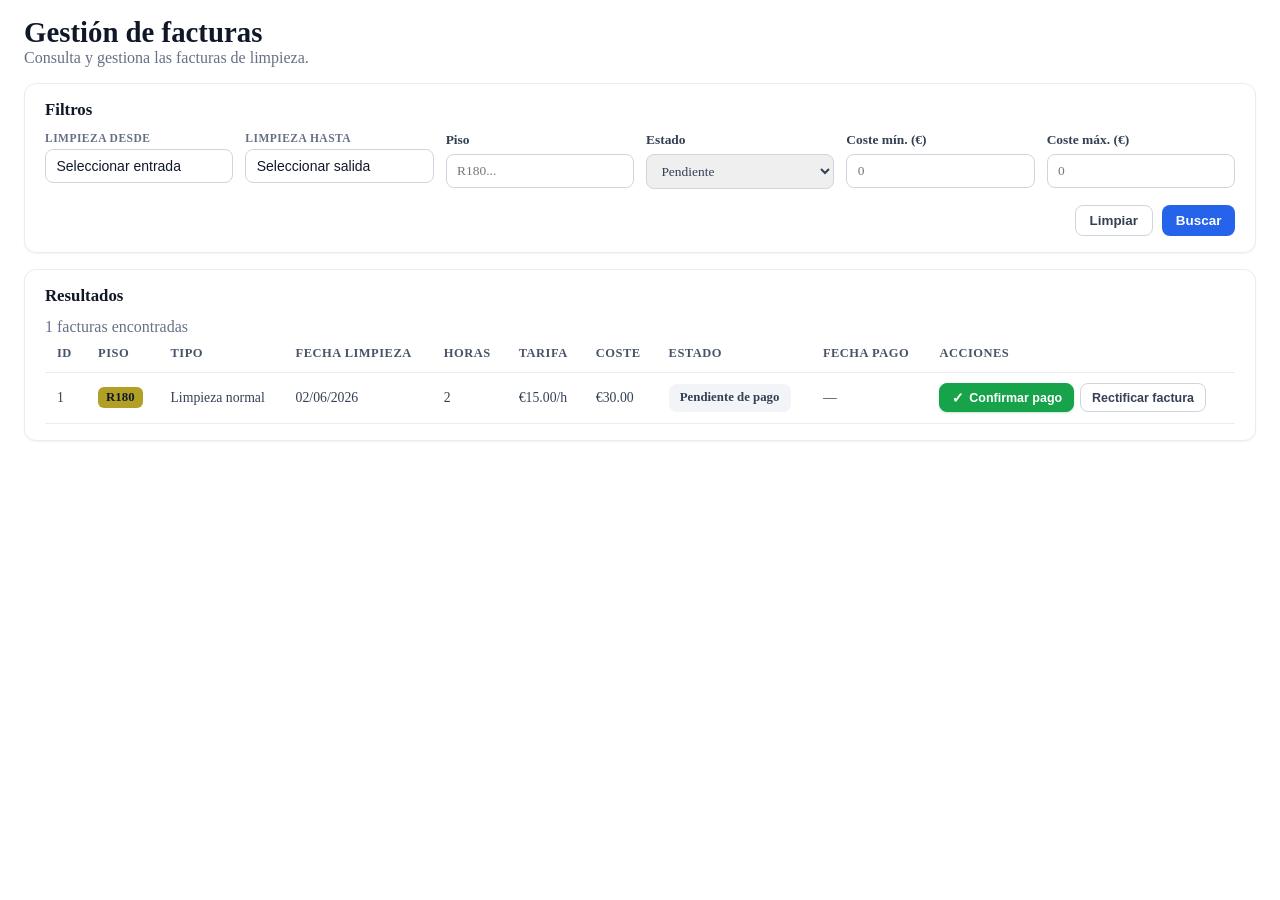
Scenario: BillsComponent › muestra el recibo de la factura al pulsar el chip de estado
The image size is (1280, 900).
Click the button with class "bill-state-chip" at (730, 398), box [669,384,790,412]
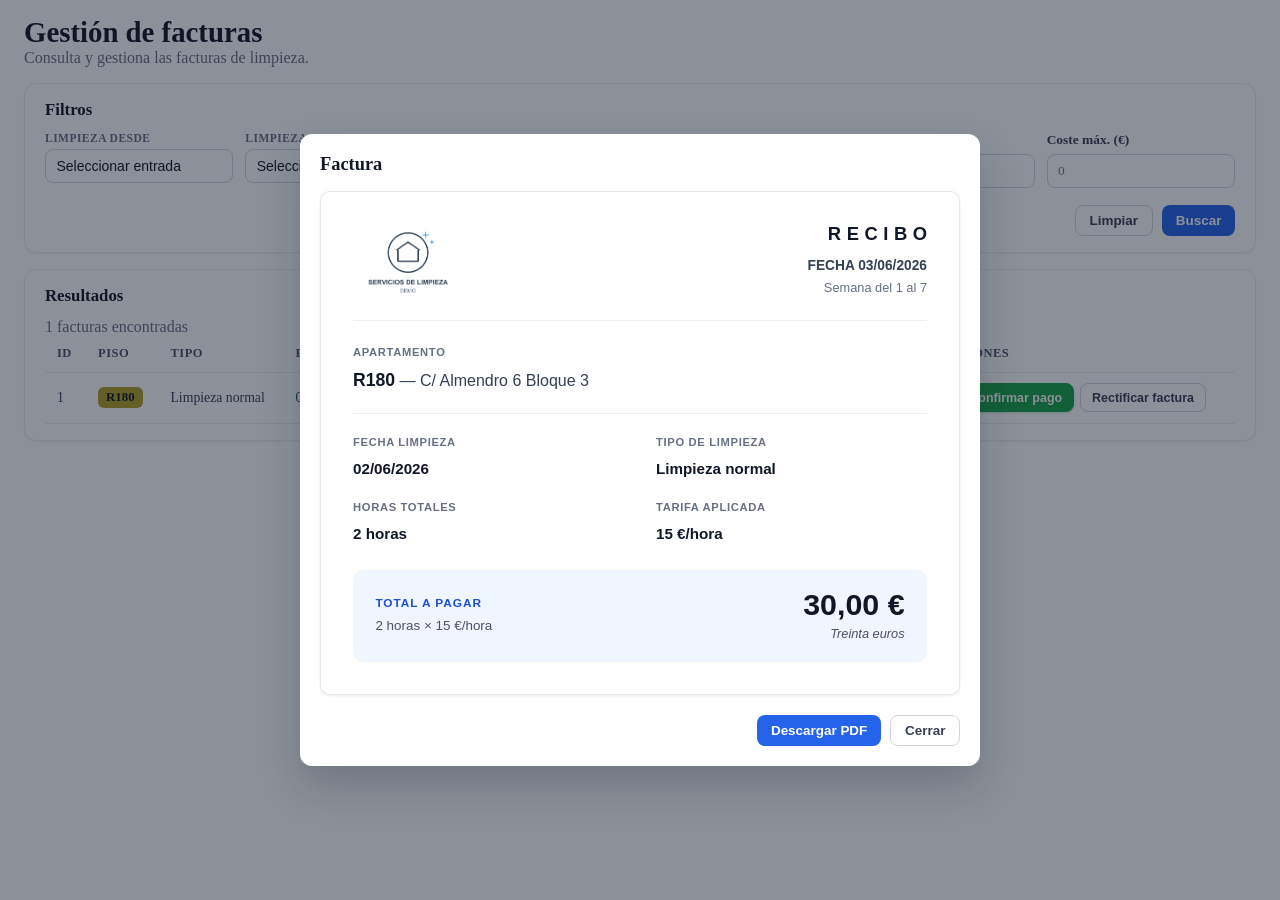
Expected: the element with class "receipt" is shown, [320,191,960,695]
Expected: the text "RECIBO" is shown, [828,223,933,244]
Expected: the text "treinta euros" is shown, [830,626,905,642]
Click the button with class "secondary-btn" showing "Cerrar" at (925, 731), box [890,715,960,746]
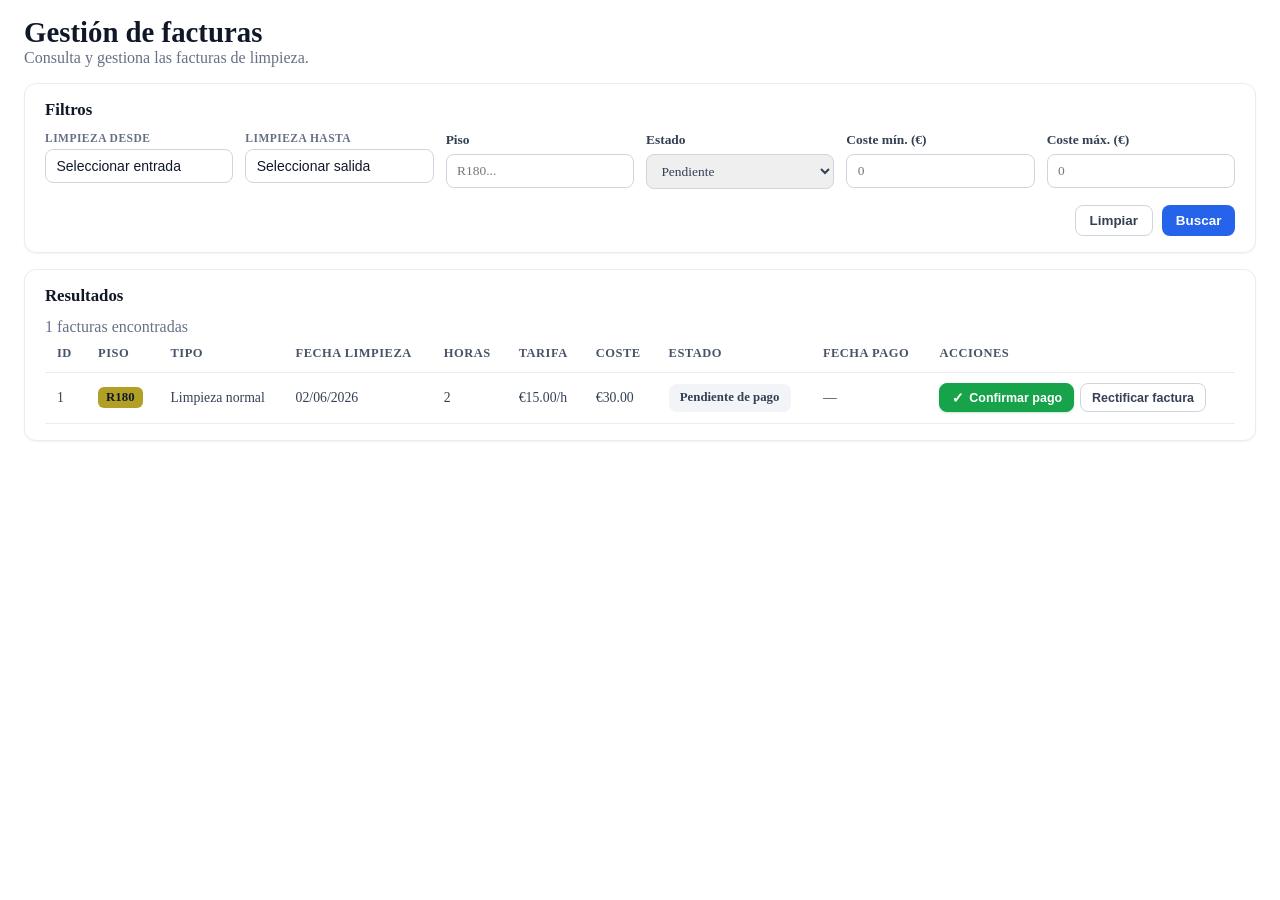
Expected: the element with class "receipt" is gone
